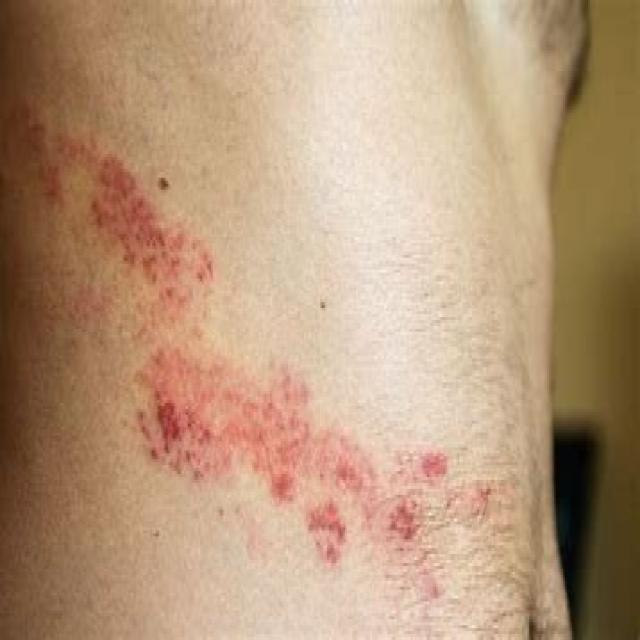Shingles: (3, 102, 448, 565)
